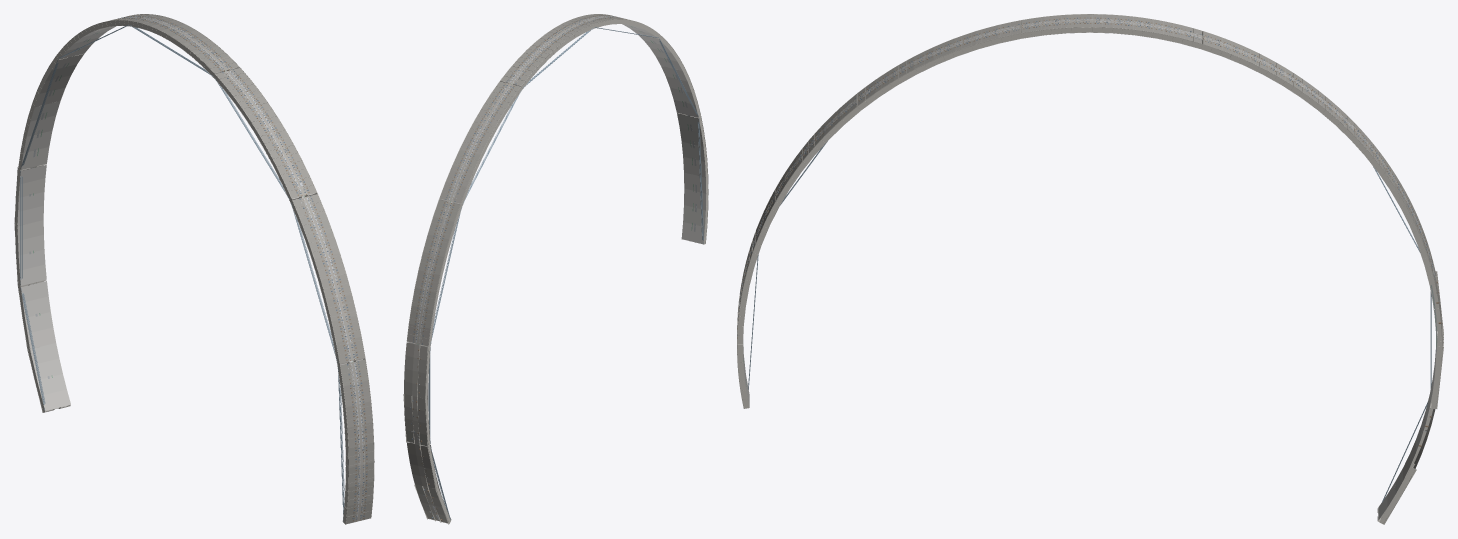
File: xuanshu_interior_C21.glb
3 renders of one model, left to right at view 1: azimuth 30°, elevation 25°; view 2: azimuth 150°, elevation 25°; view 3: azimuth 270°, elevation 25°, orthographic. The views are drawn at different scales.
Visible parts, largest first — view 1: UNIT-HAB-006, UNIT-ENT-002, UNIT-HAB-005; view 2: UNIT-HAB-005, UNIT-HAB-006, UNIT-ENT-002; view 3: UNIT-HAB-005, UNIT-HAB-006, UNIT-ENT-002.
Part boxes in pixels (box(x1,y1,x2,y2)): UNIT-HAB-006: box(214, 67, 374, 524); UNIT-ENT-002: box(14, 165, 70, 412); UNIT-HAB-005: box(18, 14, 239, 170); UNIT-HAB-005: box(406, 19, 594, 346); UNIT-HAB-006: box(573, 14, 708, 244); UNIT-ENT-002: box(403, 342, 451, 524); UNIT-HAB-005: box(1021, 14, 1435, 285); UNIT-HAB-006: box(737, 20, 1021, 408); UNIT-ENT-002: box(1377, 271, 1443, 524).
Size of the model in its own units: 17.31 by 301 by 388.
